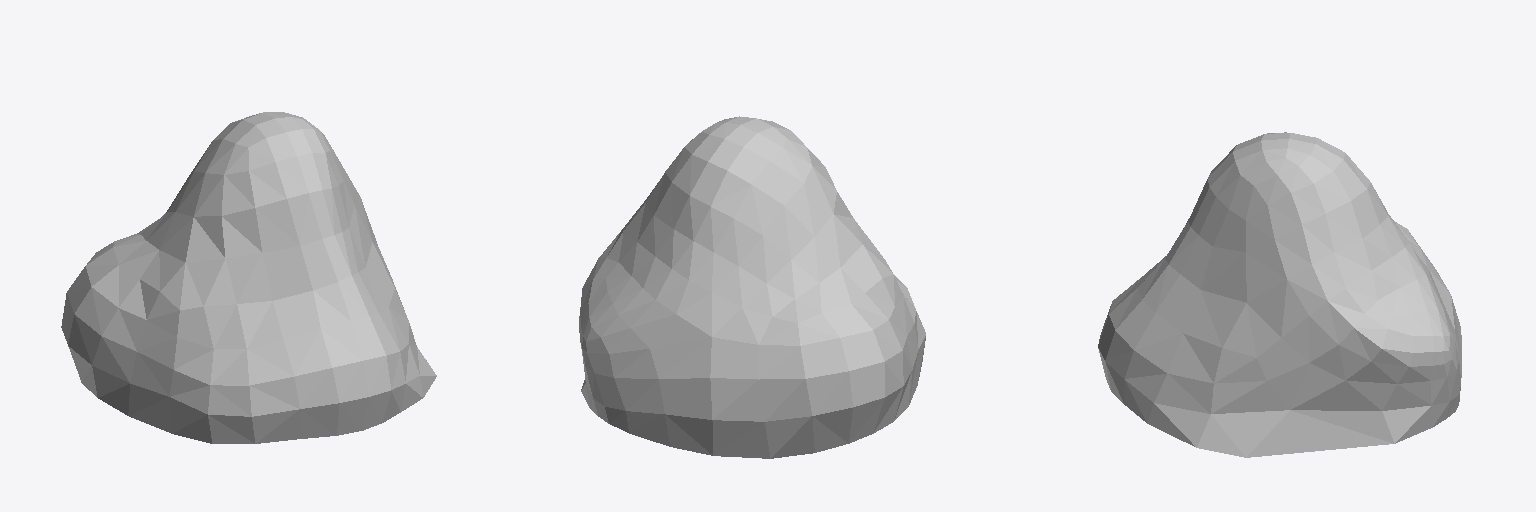
The model's file is stone40.obj.
3 views of the same model, side by side, from view 1: azimuth 30°, elevation 25°; view 2: azimuth 150°, elevation 25°; view 3: azimuth 270°, elevation 25° (orthographic).
Parts seen in each view (by area): view 1: stone4_Group1.003; view 2: stone4_Group1.003; view 3: stone4_Group1.003.
Boxes of the visible parts, <box> form: stone4_Group1.003: <box>61,112,436,443</box>; stone4_Group1.003: <box>579,116,925,458</box>; stone4_Group1.003: <box>1098,132,1461,457</box>.
Size of the model in its own units: 2.77 by 2.23 by 2.87.